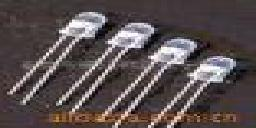LED: (149, 28, 200, 70), (55, 5, 105, 41), (190, 52, 238, 87), (107, 20, 153, 53)
